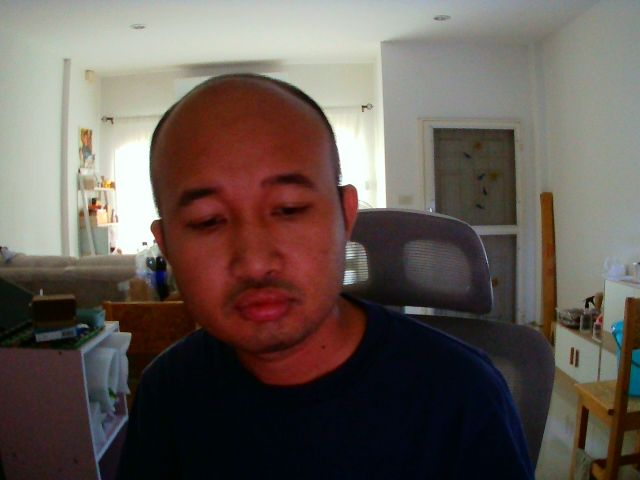face: (142, 73, 349, 353)
